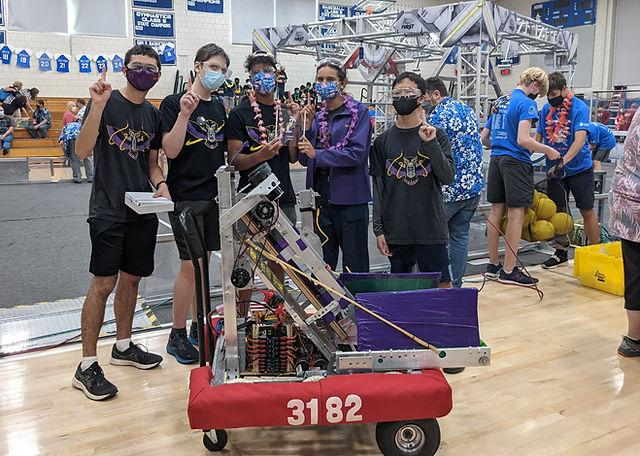robot: (187, 150, 451, 454)
